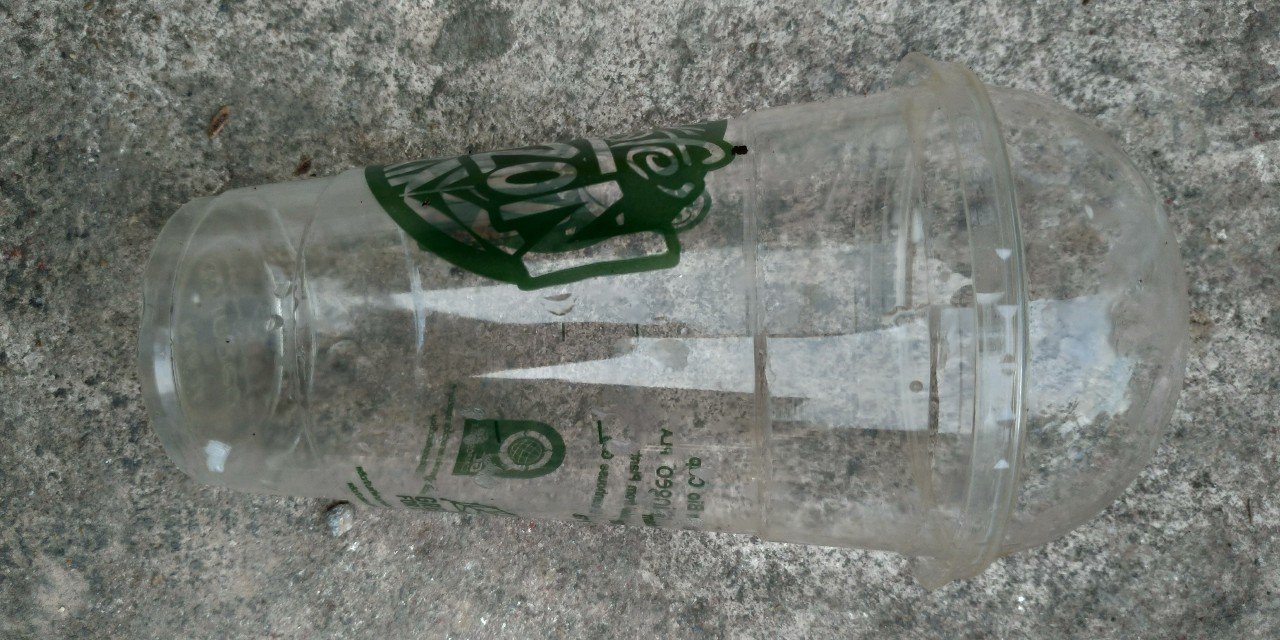PlasticCup: (145, 61, 1189, 590)
